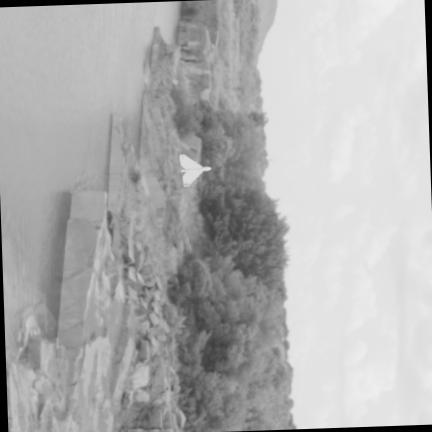Shahed: (179, 155, 210, 187)
